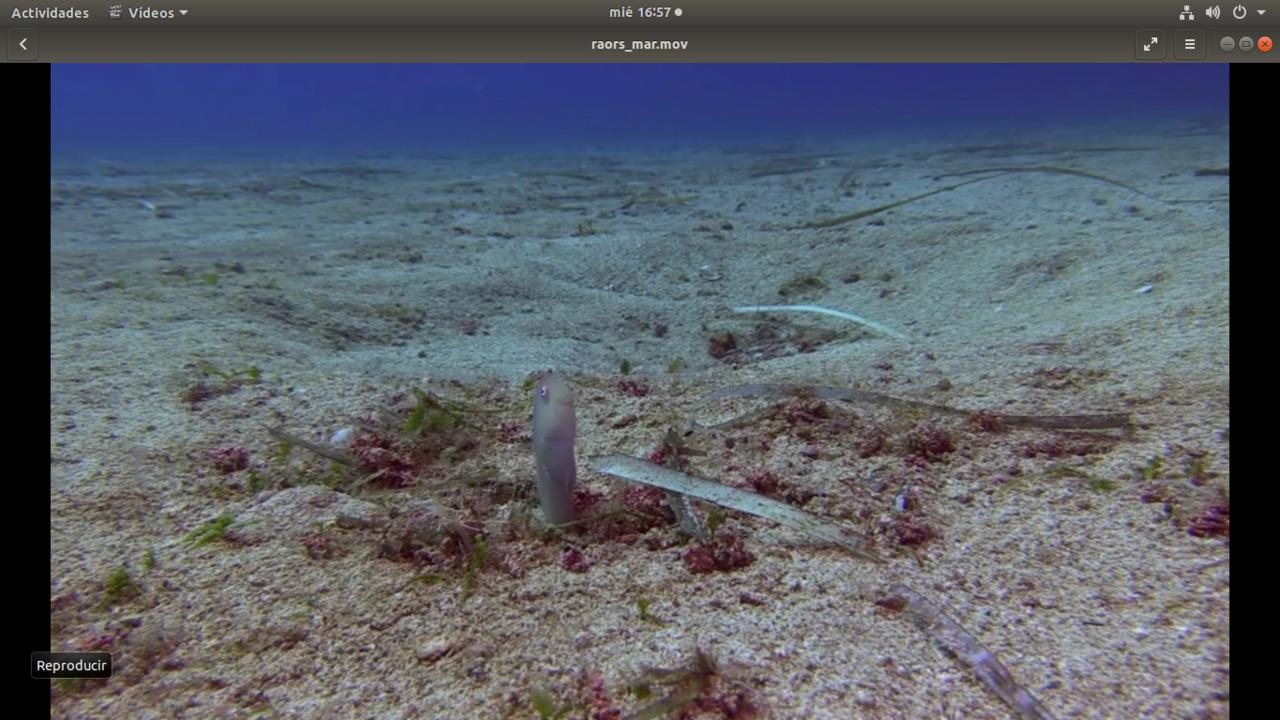raor: (520, 365, 605, 542)
